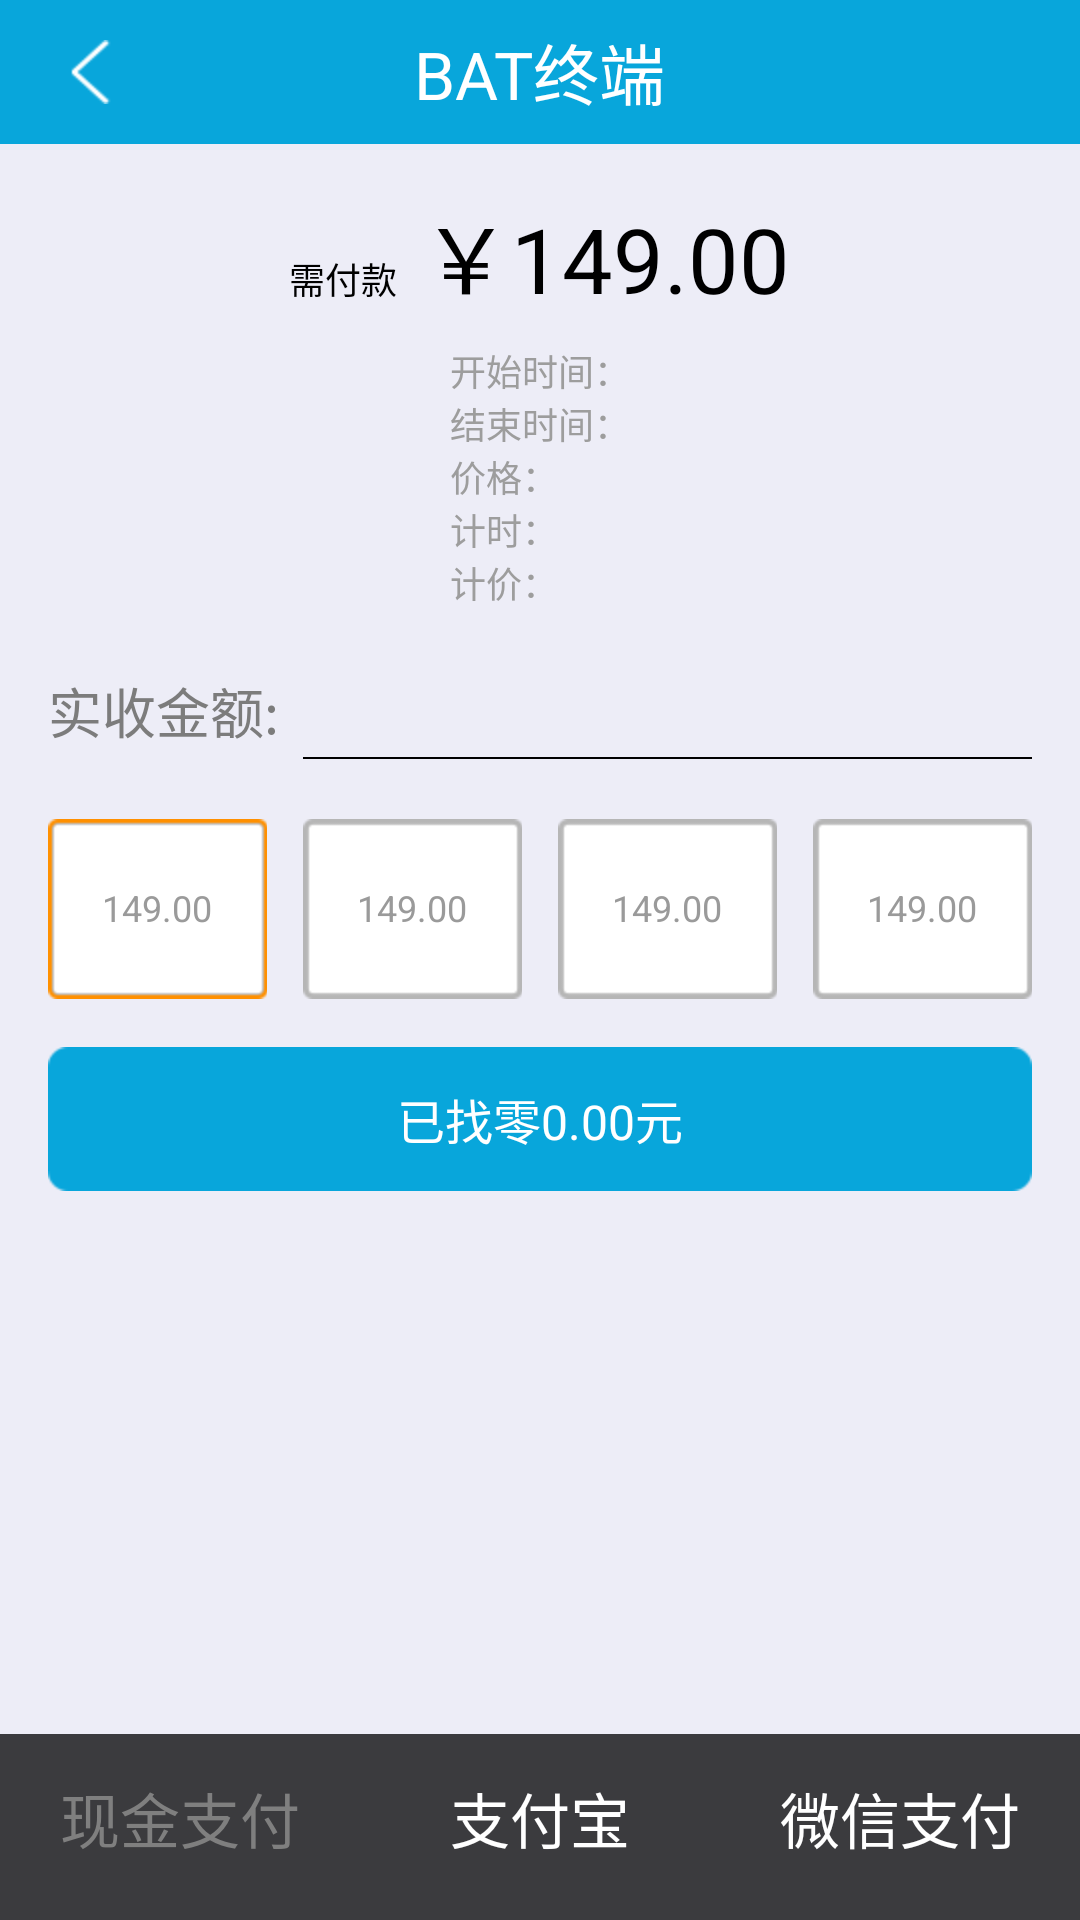

Named icons in this screenshot (1080px×1920px) and their centers, [x,y]:
fanhui: [90,72]
